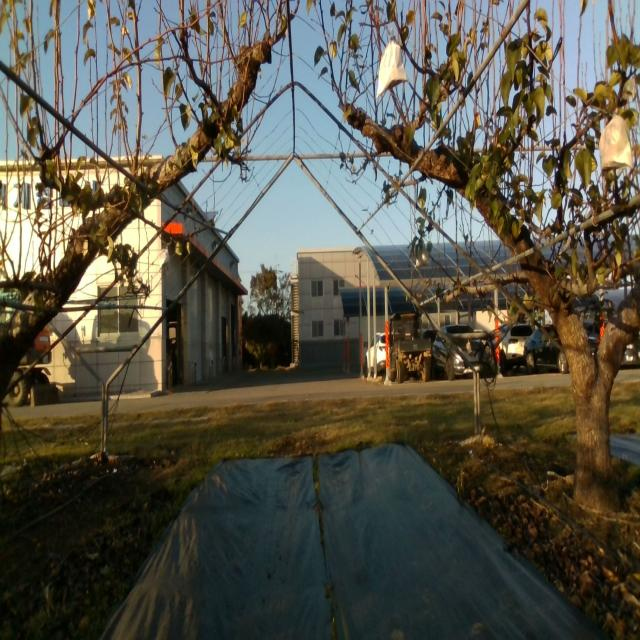pearbags: (375, 30, 409, 100), (600, 114, 634, 179), (414, 246, 431, 269), (159, 246, 171, 268)
